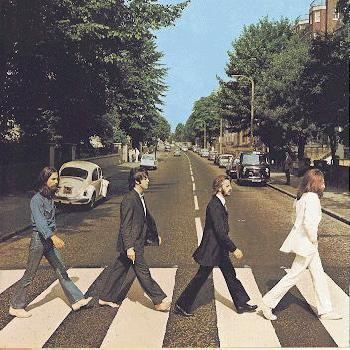hand: (235, 50, 253, 69), (247, 230, 263, 246), (249, 125, 264, 139)
